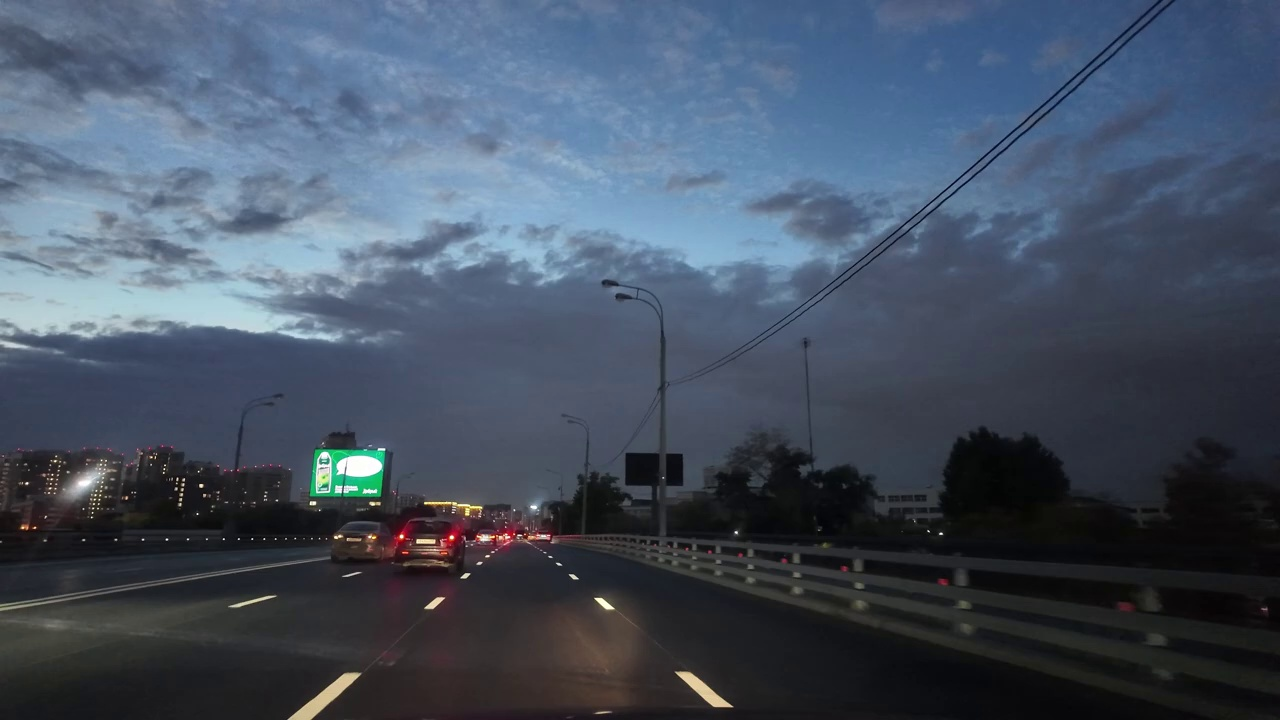apagada: (595, 267, 637, 315), (256, 382, 288, 418)
